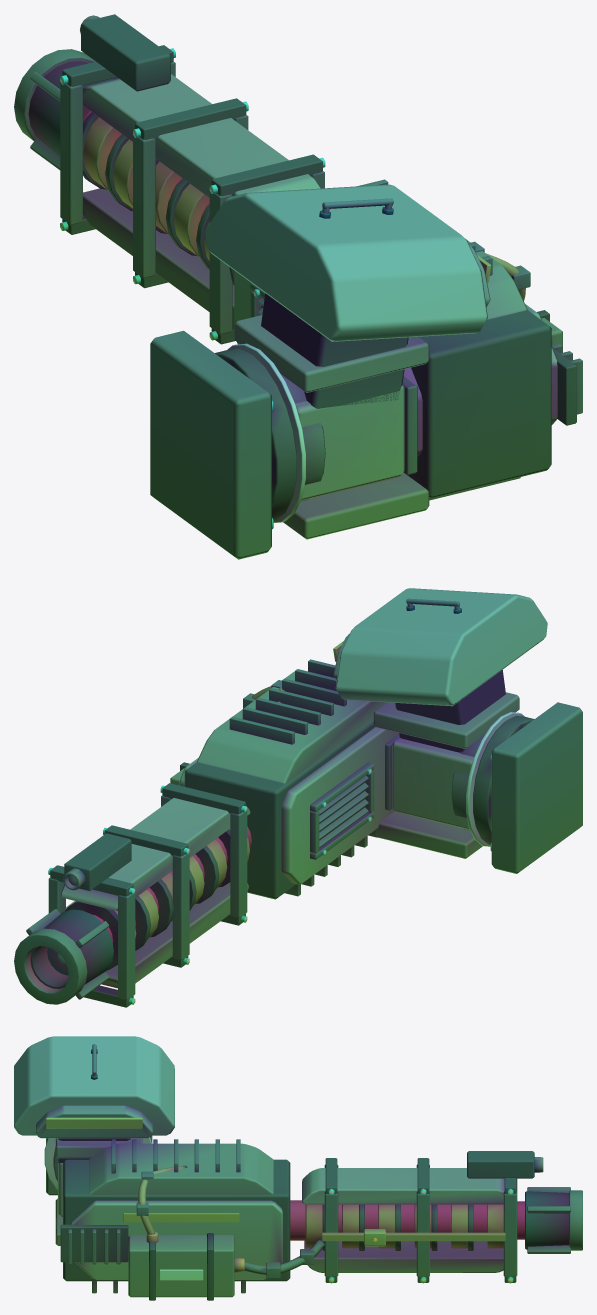
File: arm_laser.glb
The picture shows the model from 3 angles, top to bottom: view 1: azimuth 30°, elevation 25°; view 2: azimuth 150°, elevation 25°; view 3: azimuth 270°, elevation 25°; orthographic projection. The views are drawn at different scales.
Parts seen in each view (by area): view 1: Body__armor, Body__dark, Body__gunmetal, Body__armor_sub, Body__copper, Body__chrome; view 2: Body__armor, Body__gunmetal, Body__dark, Body__armor_sub, Body__copper, Body__chrome; view 3: Body__armor, Body__armor_sub, Body__dark, Body__gunmetal, Body__copper, Body__accent, Body__chrome, Body__brass, Body__hazard.
Part boxes in pixels (<box>): Body__armor: <box>83,74,557,500</box>; Body__dark: <box>28,14,576,520</box>; Body__gunmetal: <box>14,15,582,559</box>; Body__armor_sub: <box>83,188,562,539</box>; Body__copper: <box>83,117,525,300</box>; Body__chrome: <box>60,48,325,529</box>; Body__armor: <box>60,588,547,910</box>; Body__gunmetal: <box>14,598,582,1004</box>; Body__dark: <box>30,605,534,1007</box>; Body__armor_sub: <box>101,633,519,988</box>; Body__copper: <box>66,686,284,938</box>; Body__chrome: <box>48,712,524,1004</box>; Body__armor: <box>14,1036,504,1279</box>; Body__armor_sub: <box>36,1105,503,1297</box>; Body__dark: <box>58,1049,569,1300</box>; Body__gunmetal: <box>46,1044,582,1293</box>; Body__copper: <box>138,1165,505,1248</box>; Body__accent: <box>46,1117,239,1222</box>; Body__chrome: <box>44,1137,513,1283</box>; Body__brass: <box>146,1229,385,1272</box>; Body__hazard: <box>159,1269,203,1280</box>.
Bounding box in the file's own units: 1.15 × 0.8798 × 2.35.
